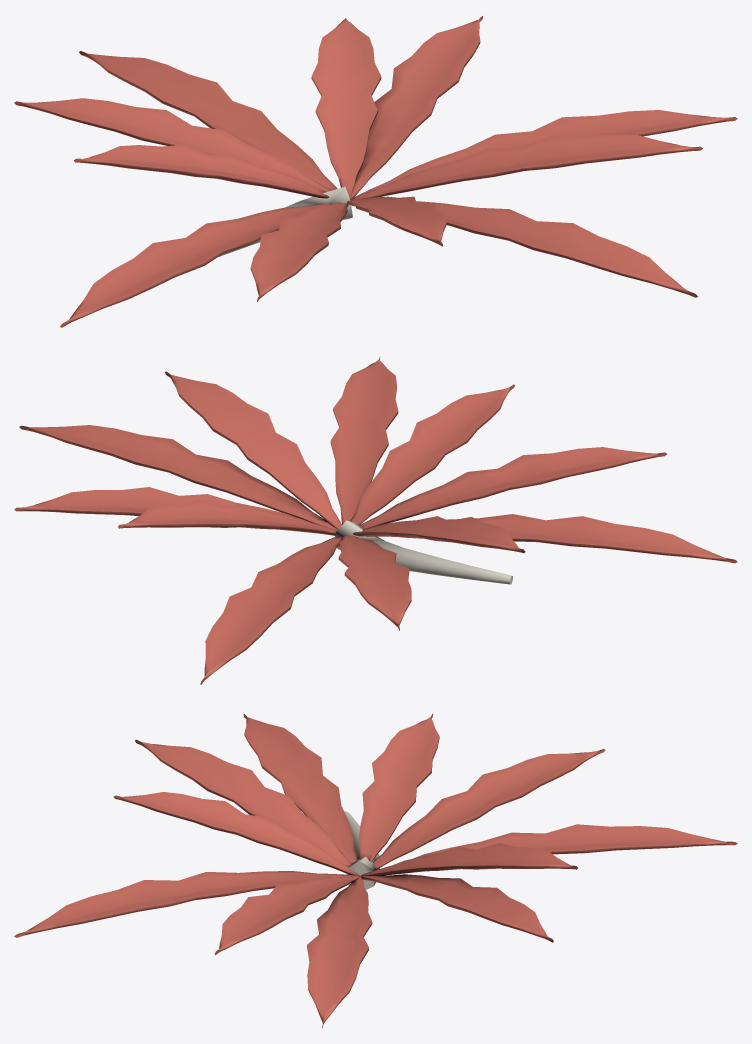
File: food_shepherds.glb
3 renders of one model, top to bottom at view 1: azimuth 30°, elevation 25°; view 2: azimuth 150°, elevation 25°; view 3: azimuth 270°, elevation 25°, orthographic. The views are drawn at different scales.
Visible parts, largest first — view 1: PART; view 2: PART; view 3: PART.
Boxes of the visible parts, x1,y1,x2,y2 form: PART: (14,16,737,327); PART: (14,357,737,684); PART: (14,713,737,1028).
Size of the model in its own units: 0.2097 by 0.0249 by 0.204.
